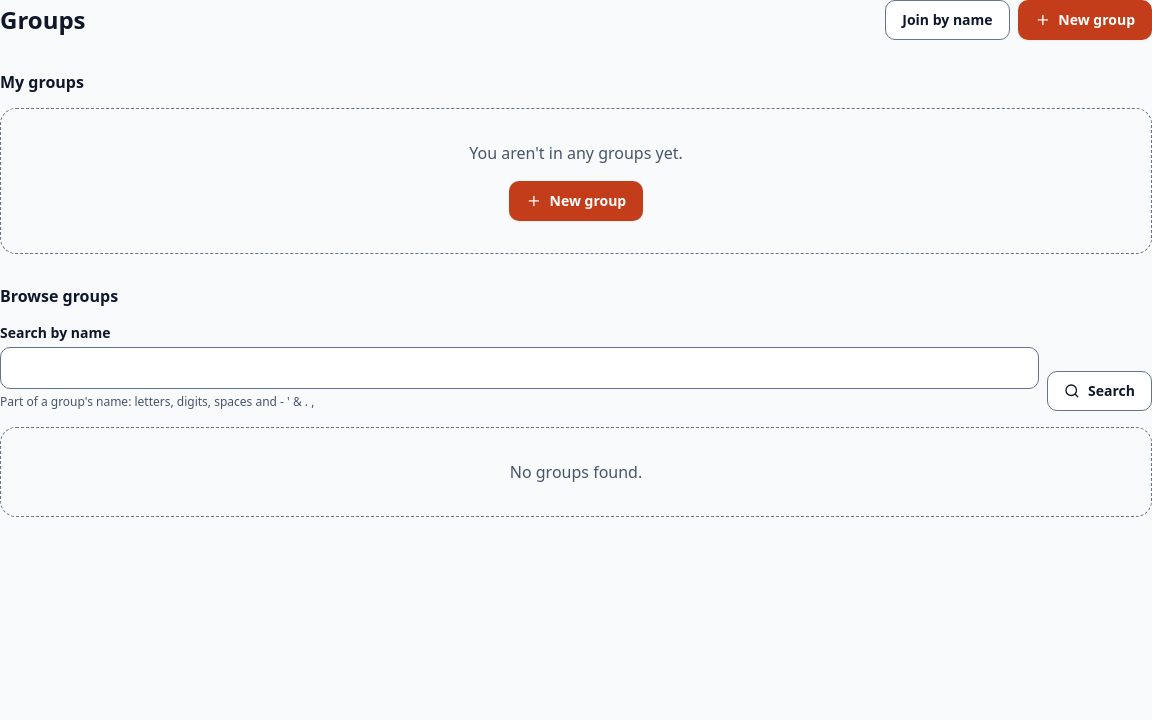
Scenario: creating a group › creates the group and reloads my groups
Expected: the text "You aren't in any groups yet." is shown, [469,141,683,165]
Expected: the text "No groups found." is shown, [510,460,642,484]
Click the 1st button "New group". click: x=1085, y=20
box: [1018,0,1151,40]
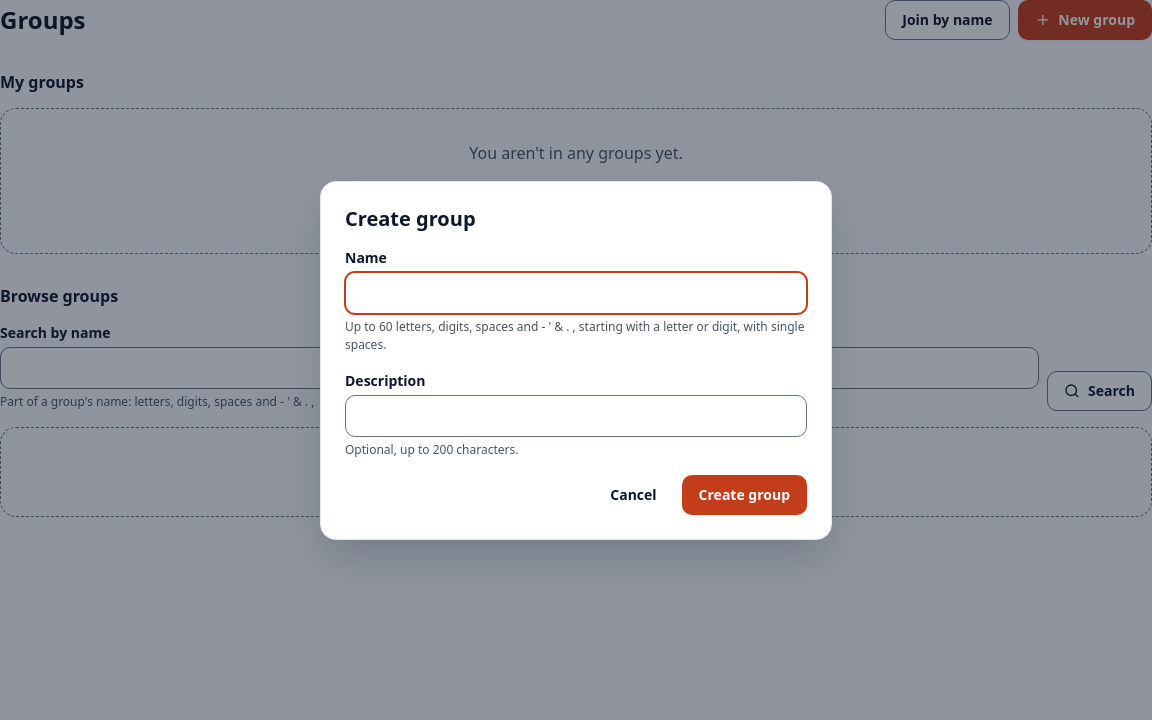
Type " Goa 2027 " into the field labelled "Name". click: x=576, y=292
box: [345,272,807,314]
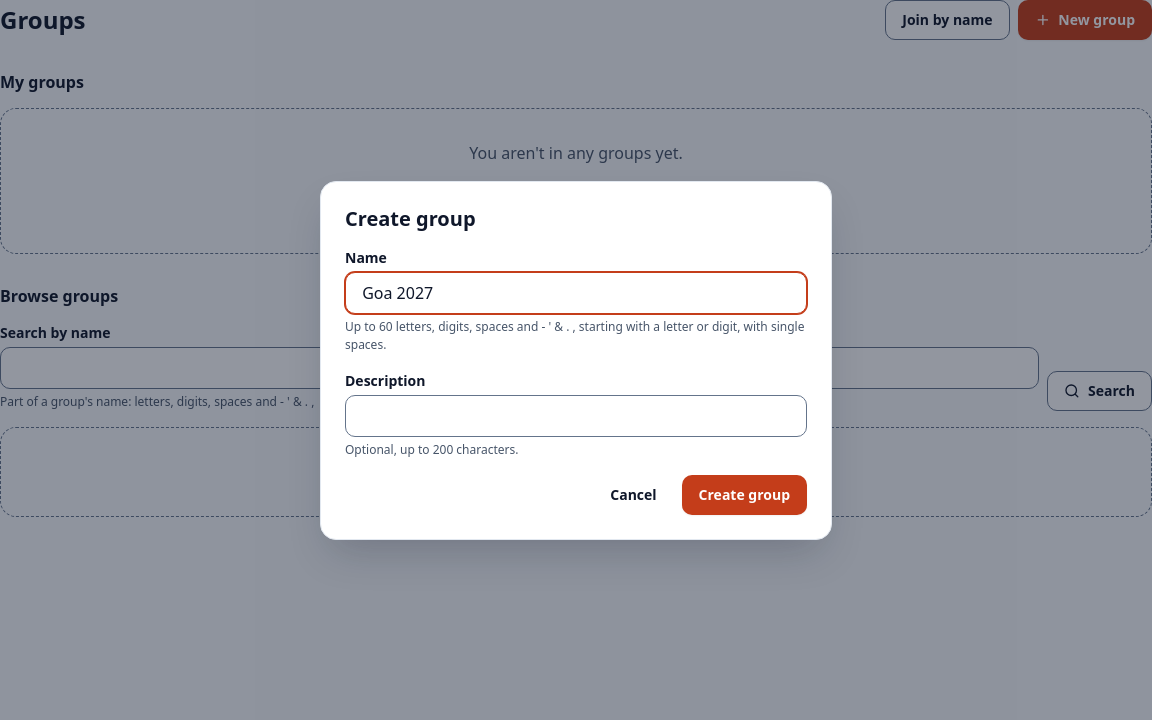
Type "Beach week" into the field labelled "Description". click: x=576, y=416
box: [345,394,807,436]
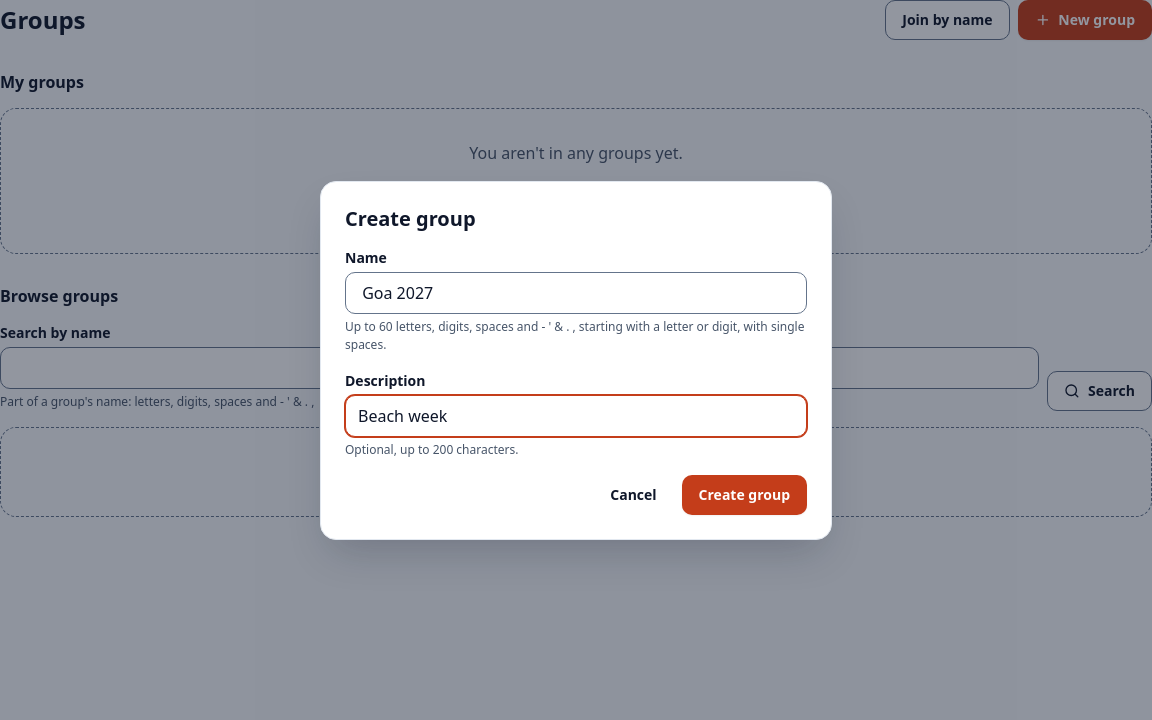
Click the button "Create group". click: x=744, y=494
box: [682,474,807,514]
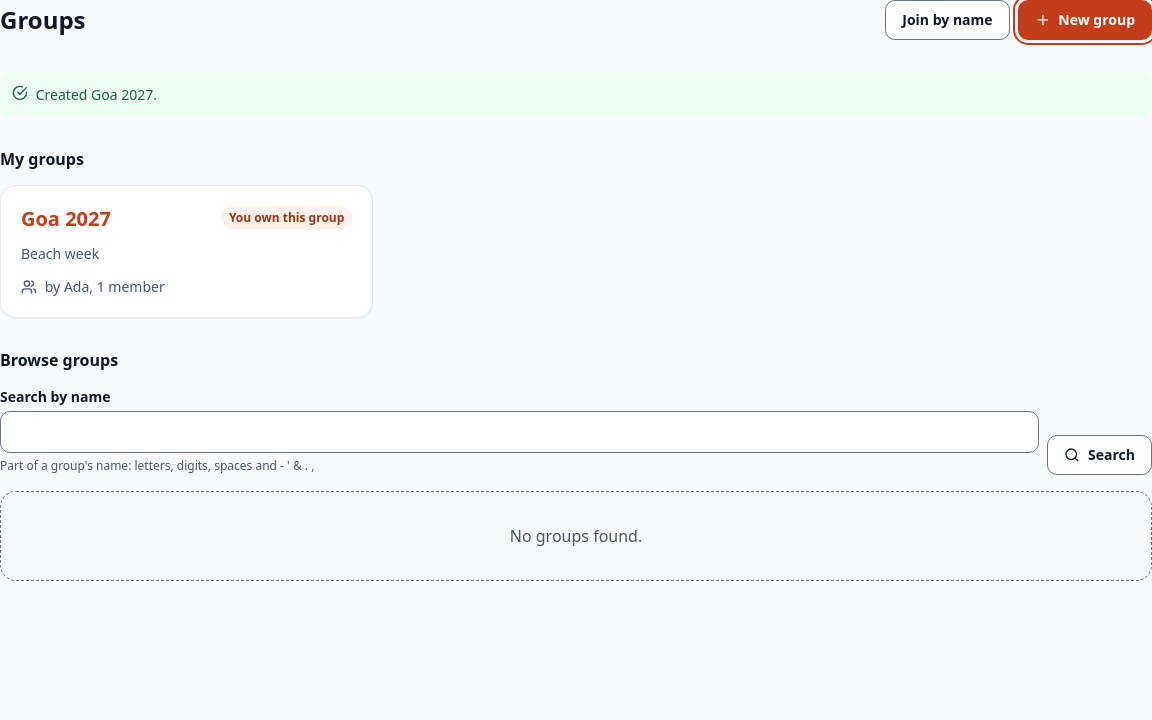
Now the message reads "Created Goa 2027.", box [36,85,157,104]
Now the heading "Create group" is gone
Now the link "Goa 2027" is shown, box [21,206,111,231]
